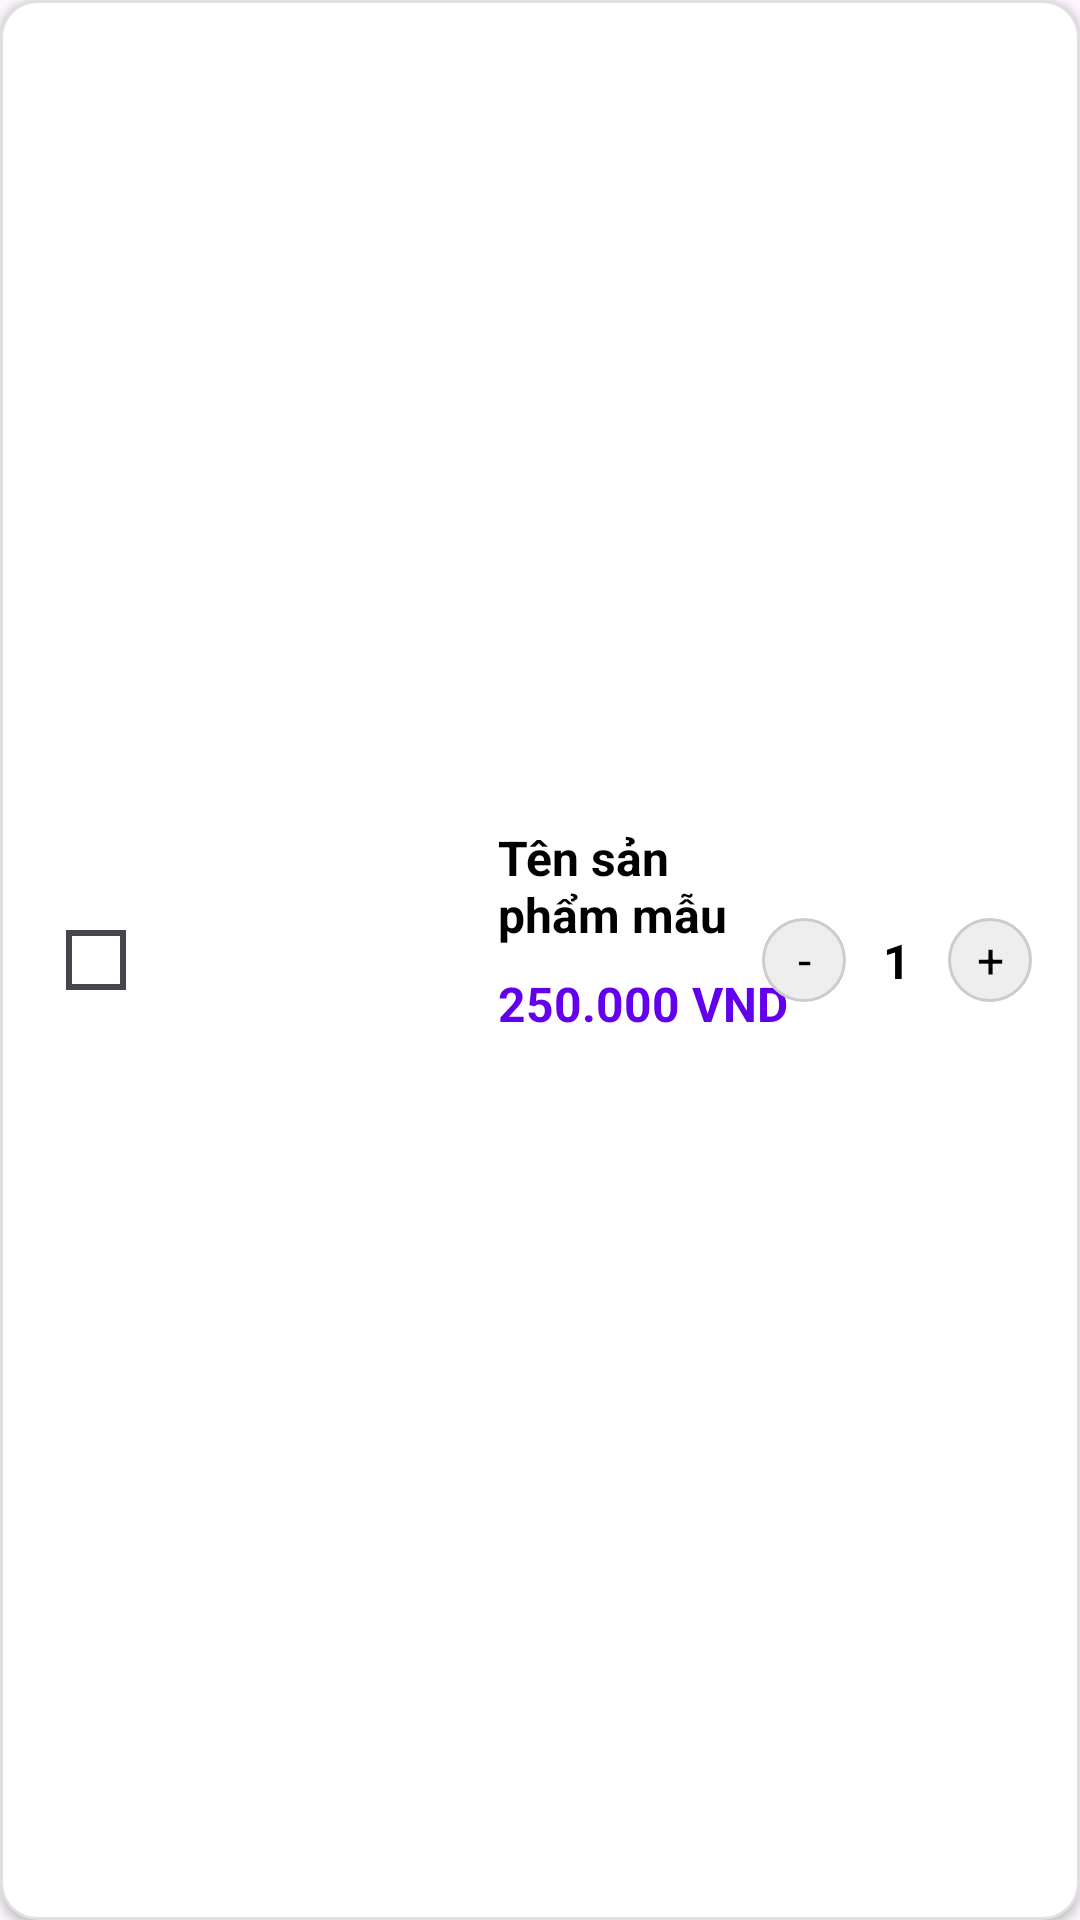

Where icons sit on this 1080x1920 app screen, as [x1, y1, x2, y2]:
custom checkbox: [66, 930, 126, 990]
